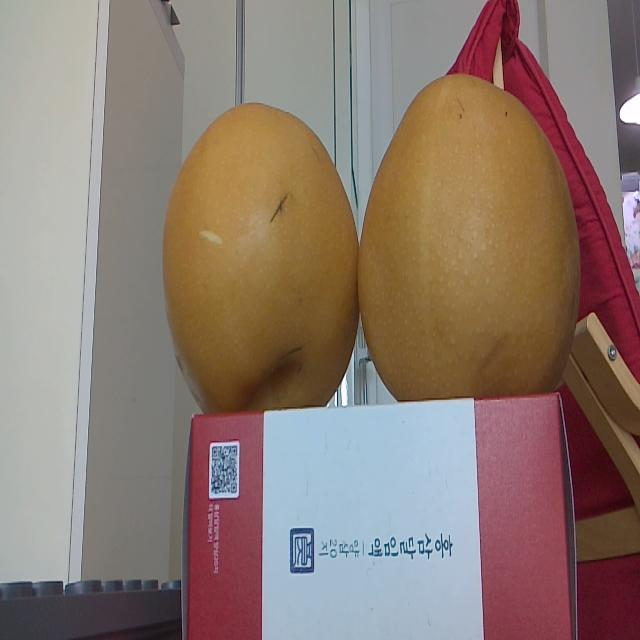pear: (360, 74, 580, 396), (162, 104, 359, 409)
